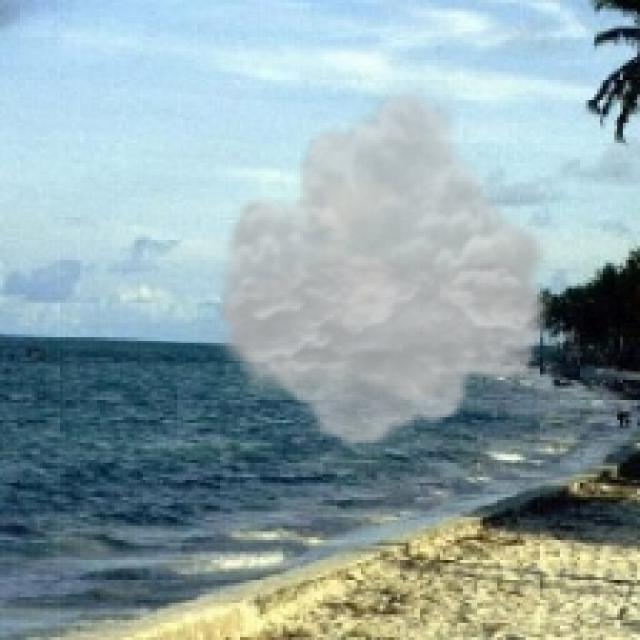smoke: (209, 83, 557, 451)
